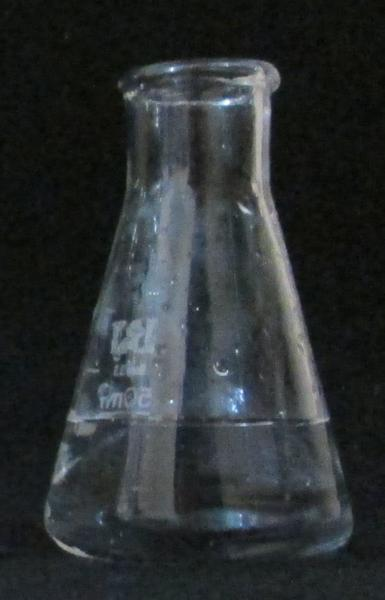Titrarion: (20, 42, 364, 567)
